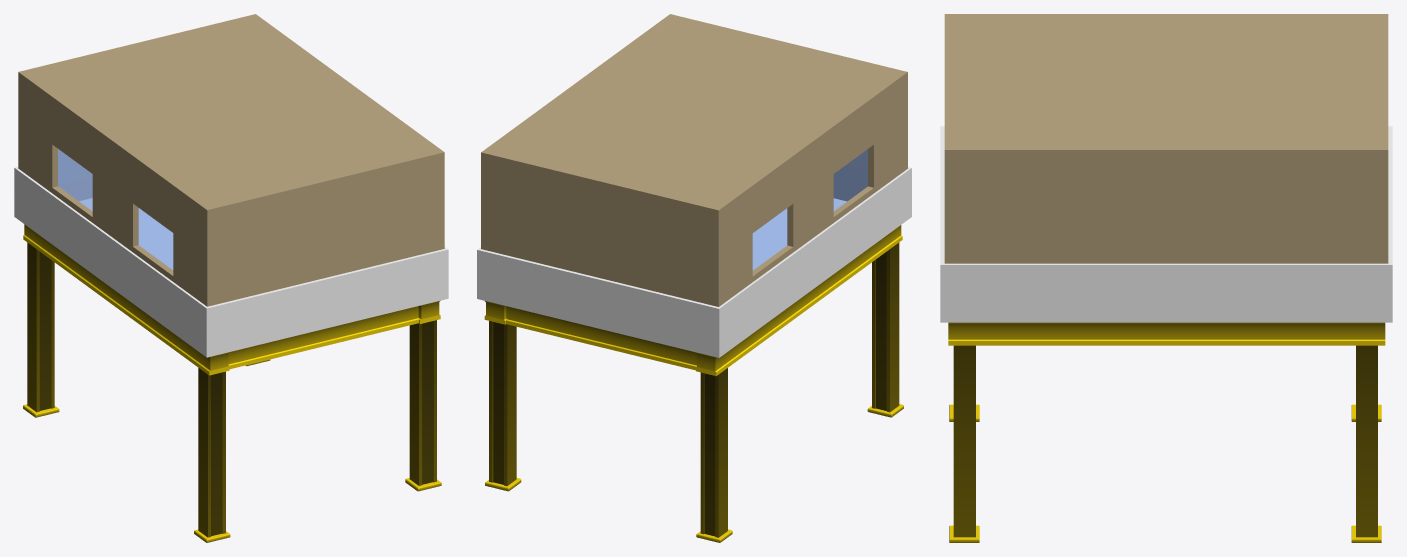
File: Shop_NEW.fbx
3 renders of one model, left to right at view 1: azimuth 30°, elevation 25°; view 2: azimuth 150°, elevation 25°; view 3: azimuth 270°, elevation 25°, orthographic. The views are drawn at different scales.
Parts seen in each view (by area): view 1: Building; view 2: Building; view 3: Building.
Part boxes in pixels (<box>): Building: <box>14,14,448,542</box>; Building: <box>477,14,911,542</box>; Building: <box>940,14,1392,542</box>.
Bounding box in the file's own units: 375 × 497 × 517.
